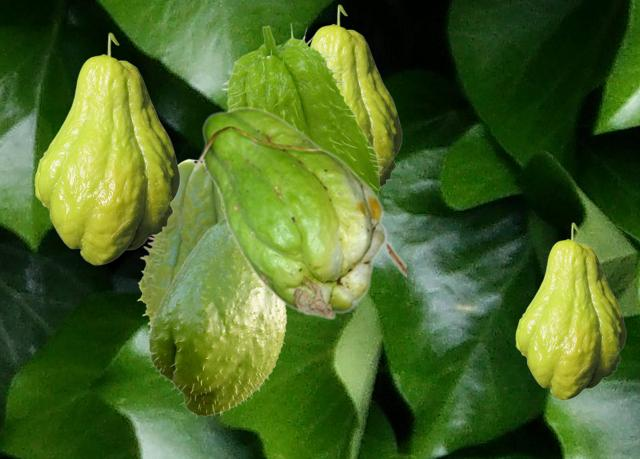sayote: (192, 106, 405, 319), (34, 32, 179, 264), (220, 22, 384, 209), (144, 218, 287, 418), (515, 222, 625, 399), (309, 4, 401, 186), (136, 158, 223, 333)
